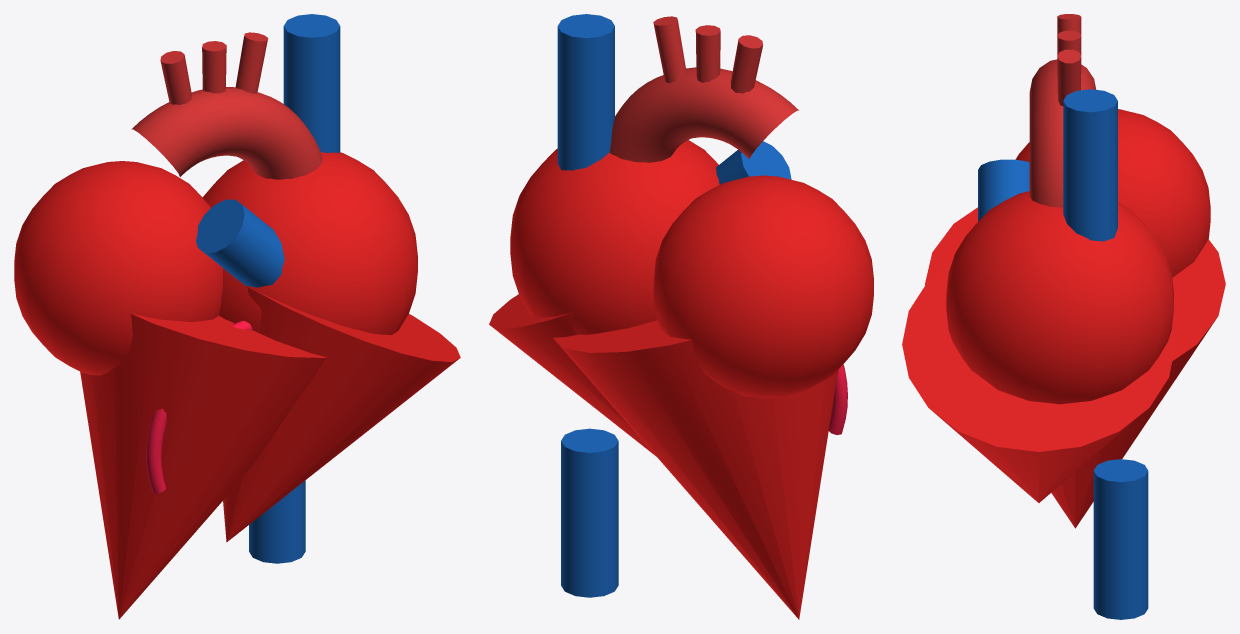
File: heart.glb
3 views of the same model, side by side, from view 1: azimuth 30°, elevation 25°; view 2: azimuth 150°, elevation 25°; view 3: azimuth 270°, elevation 25° (orthographic). The views are drawn at different scales.
Visible parts, largest first — view 1: HumanHeart; view 2: HumanHeart; view 3: HumanHeart.
Boxes of the visible parts, x1=… form: HumanHeart: x1=14, y1=14, x2=460, y2=619; HumanHeart: x1=489, y1=14, x2=873, y2=619; HumanHeart: x1=902, y1=14, x2=1225, y2=619.
Bounding box in the file's own units: 1.39 × 1.95 × 1.06.
